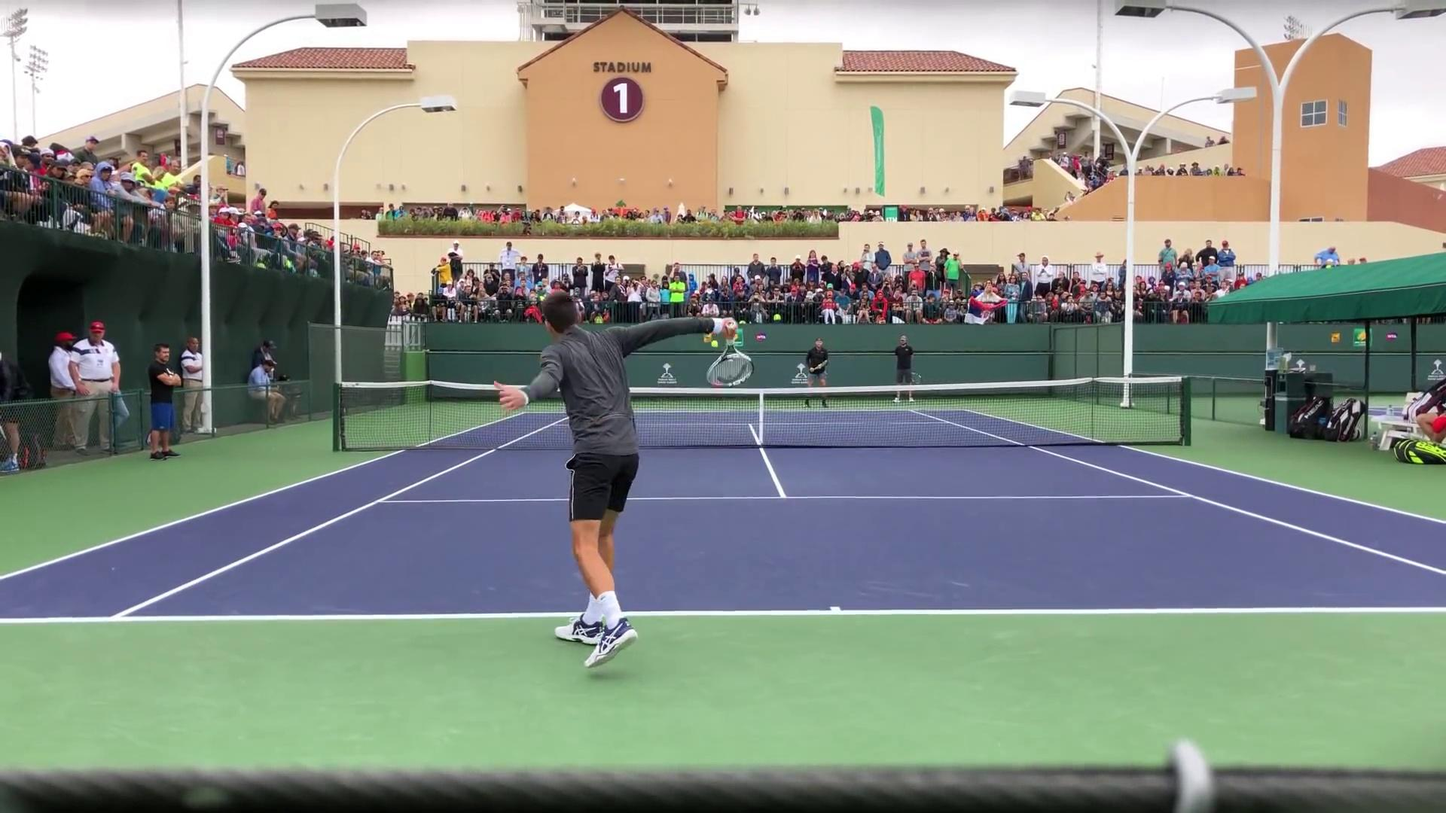ball: (710, 338, 719, 349)
